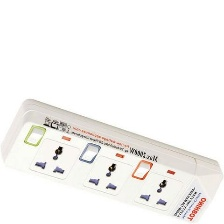three_eye_plug: (0, 96, 224, 223)
